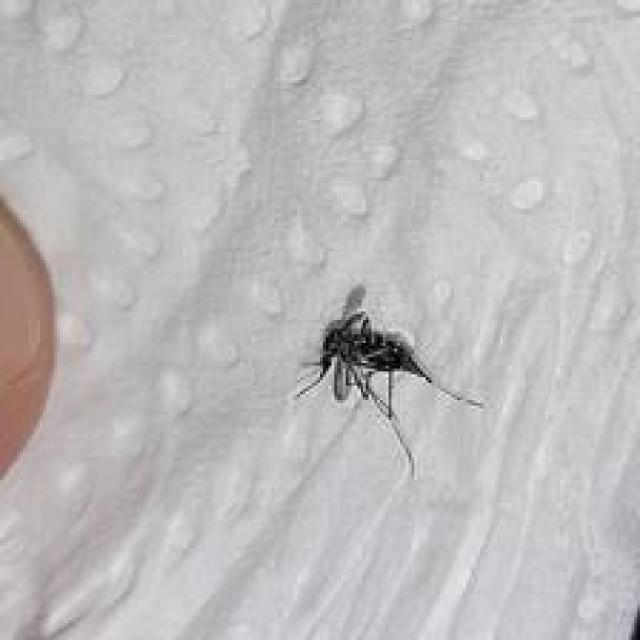Aedes albopictus: (293, 283, 484, 477)
